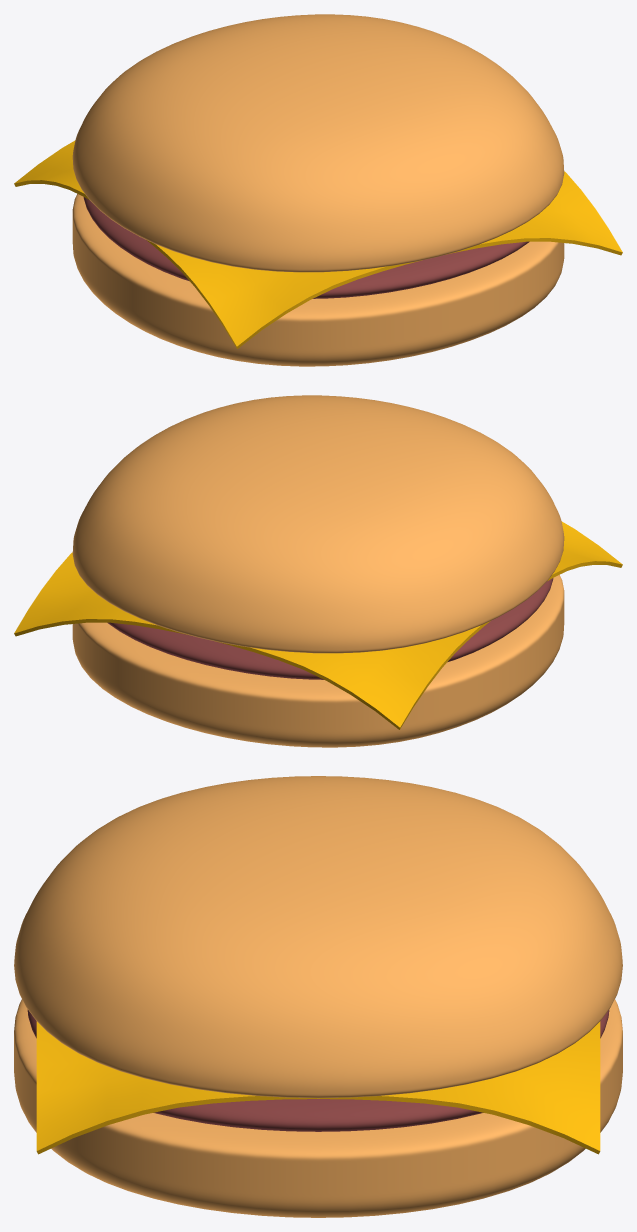
File: hamburger.glb
The picture shows the model from 3 angles, top to bottom: view 1: azimuth 30°, elevation 25°; view 2: azimuth 150°, elevation 25°; view 3: azimuth 270°, elevation 25°; orthographic projection. The views are drawn at different scales.
Visible parts, largest first — view 1: Cube.002, Cube, Plane, Cube.001; view 2: Cube.002, Cube, Plane, Cube.001; view 3: Cube.002, Cube, Plane, Cube.001.
Part boxes in pixels (left/top/right/bottom): Cube.002: left=72, top=14, right=564, bottom=272; Cube: left=72, top=194, right=564, bottom=366; Plane: left=14, top=140, right=622, bottom=348; Cube.001: left=83, top=197, right=529, bottom=298; Cube.002: left=72, top=395, right=564, bottom=653; Cube: left=72, top=575, right=564, bottom=747; Plane: left=14, top=521, right=622, bottom=729; Cube.001: left=107, top=578, right=553, bottom=679; Cube.002: left=14, top=776, right=622, bottom=1098; Cube: left=14, top=999, right=622, bottom=1217; Plane: left=36, top=1021, right=600, bottom=1154; Cube.001: left=27, top=1009, right=609, bottom=1131.
Bounding box in the file's own units: 9.14 × 4.68 × 9.14.
